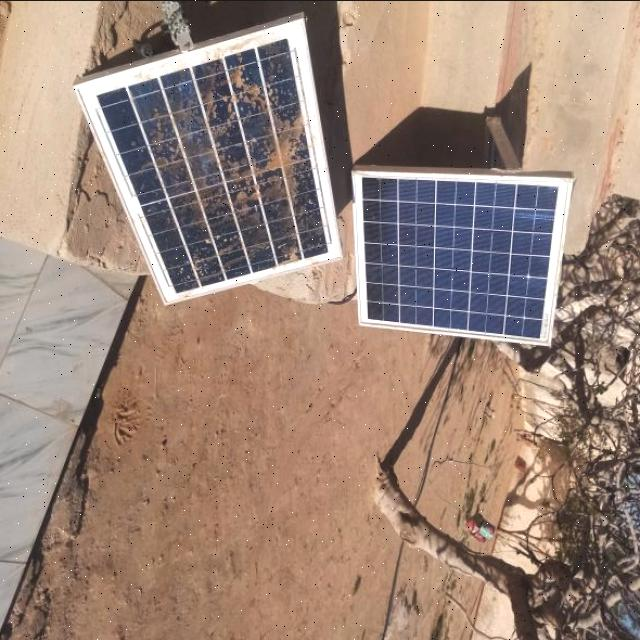Normal Solar Panel: (352, 172, 570, 346)
